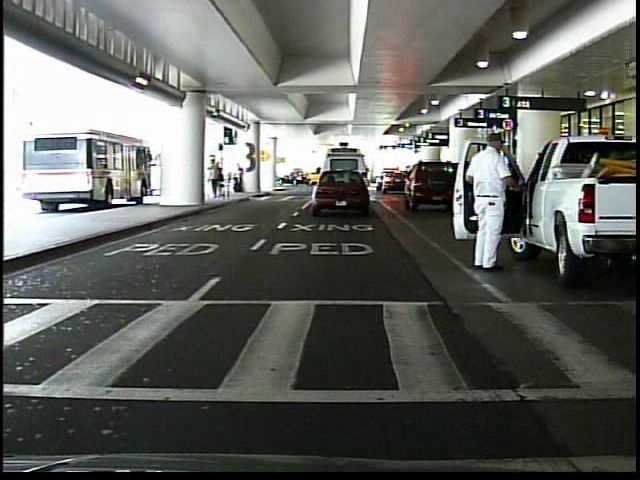person: (466, 129, 520, 273), (209, 155, 224, 202), (231, 163, 248, 198)
